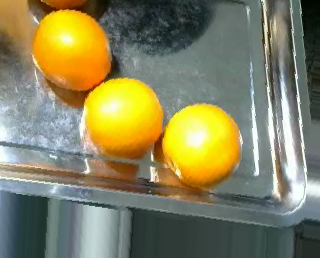Orange: (31, 8, 113, 91), (163, 102, 243, 187), (82, 76, 164, 157)
